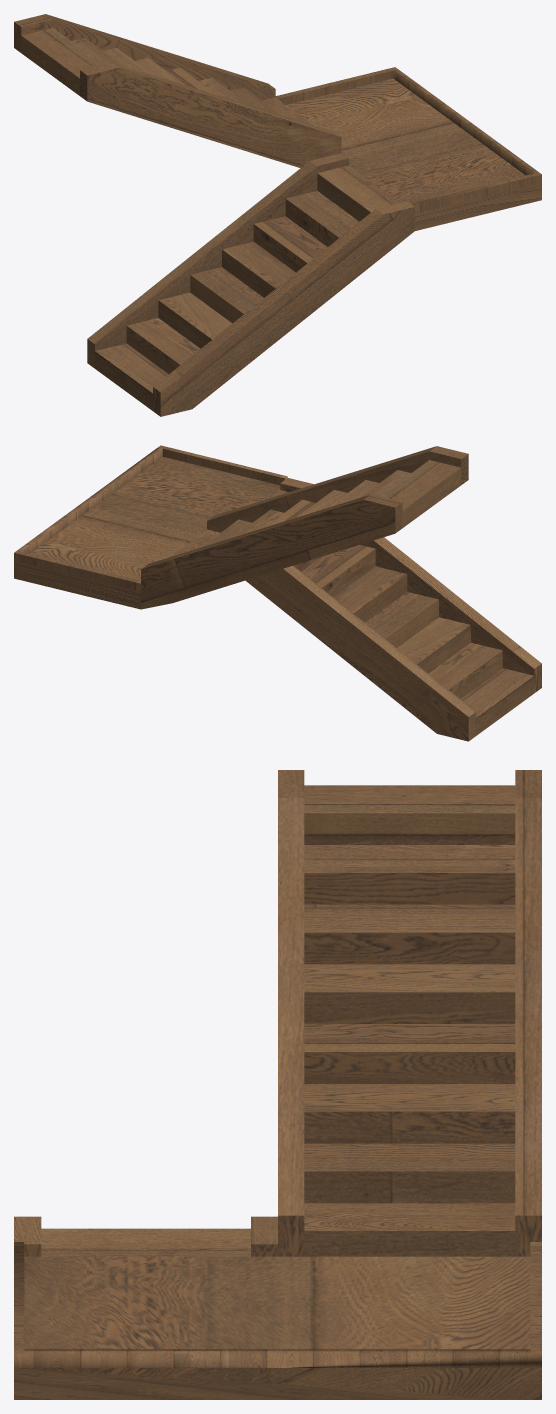
Rendered from wooden stairs.glb.
3 renders of one model, top to bottom at view 1: azimuth 30°, elevation 25°; view 2: azimuth 150°, elevation 25°; view 3: azimuth 270°, elevation 25°, orthographic. The views are drawn at different scales.
Parts seen in each view (by area): view 1: Stairs; view 2: Stairs; view 3: Stairs.
Boxes of the visible parts, x1,y1,x2,y2 form: Stairs: [14, 14, 541, 416]; Stairs: [14, 445, 541, 741]; Stairs: [14, 770, 541, 1399].
Size of the model in its own units: 6 by 4.33 by 4.
Materials: 1 (1 with a texture image).
